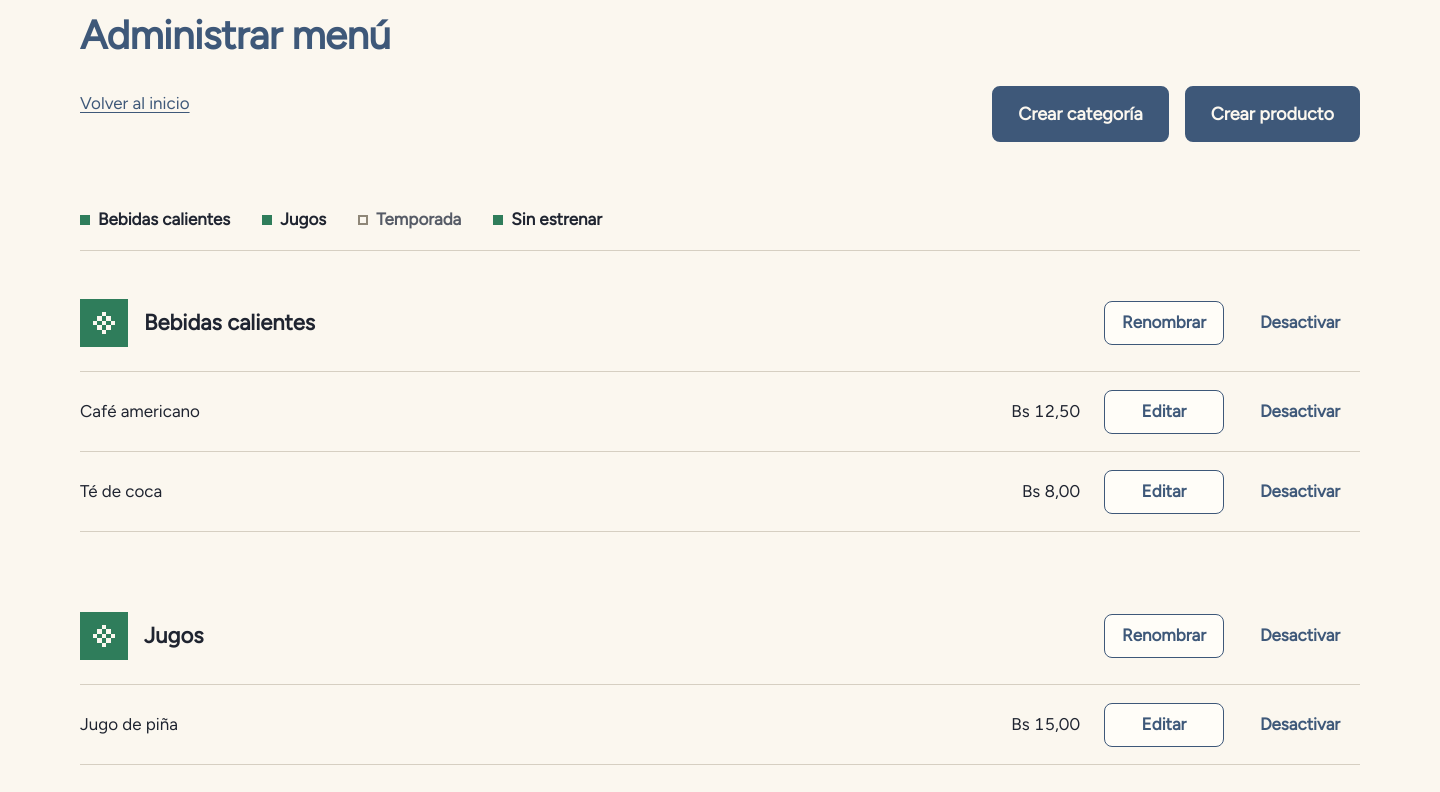
Test case: administración del menú (RF-1, RF-2) › desactiva y reactiva un producto con confirmación de guardado (RF-7, RF-9)
Step 1. Click the button with aria-label "Desactivar producto Café americano" → click(1300, 412), box [1240,390,1360,434]
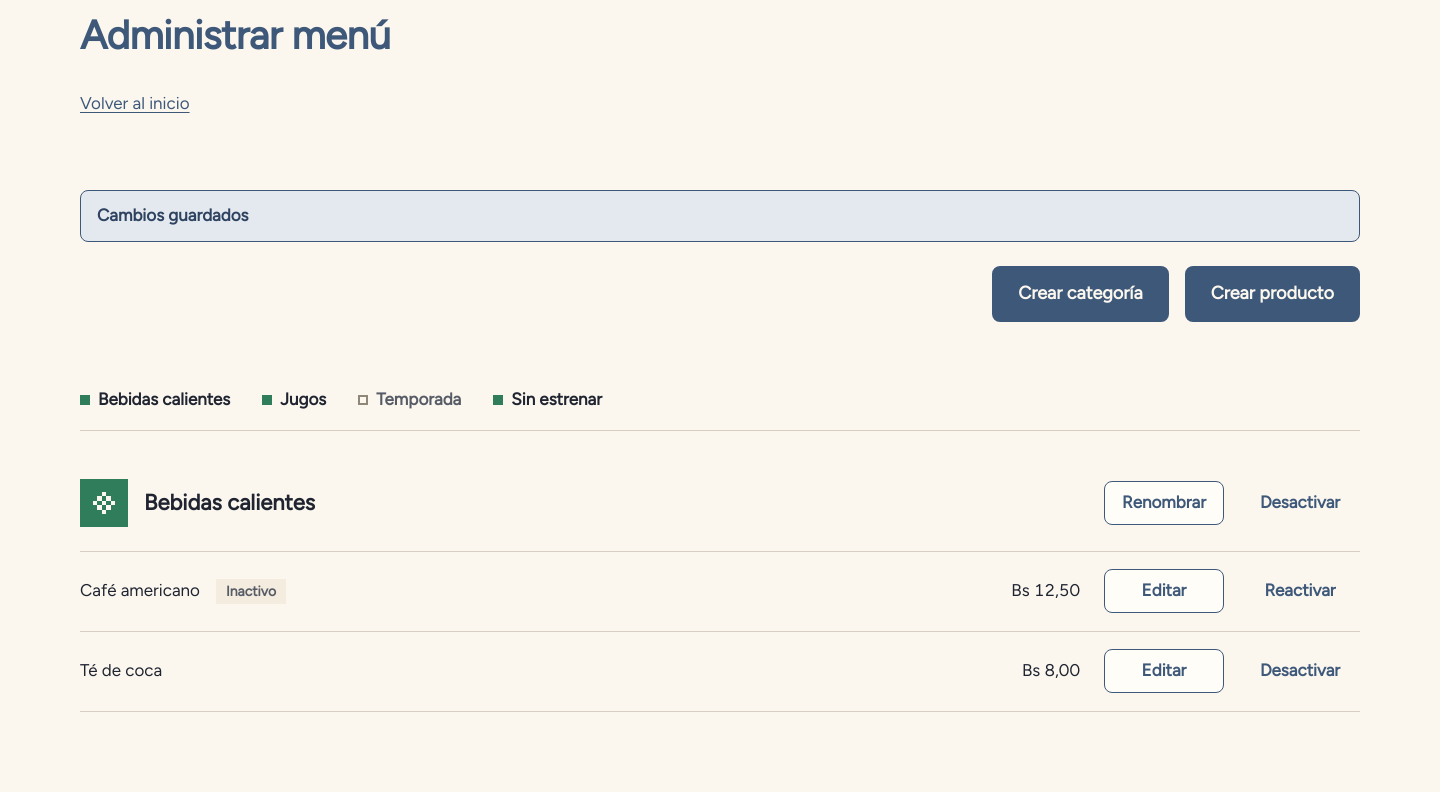
Expected: the button with aria-label "Reactivar producto Café americano" is shown
Expected: the text "Cambios guardados" is shown, [80,190,1360,242]
Step 2. Click the button with aria-label "Reactivar producto Café americano" → click(1300, 591), box [1240,569,1360,613]
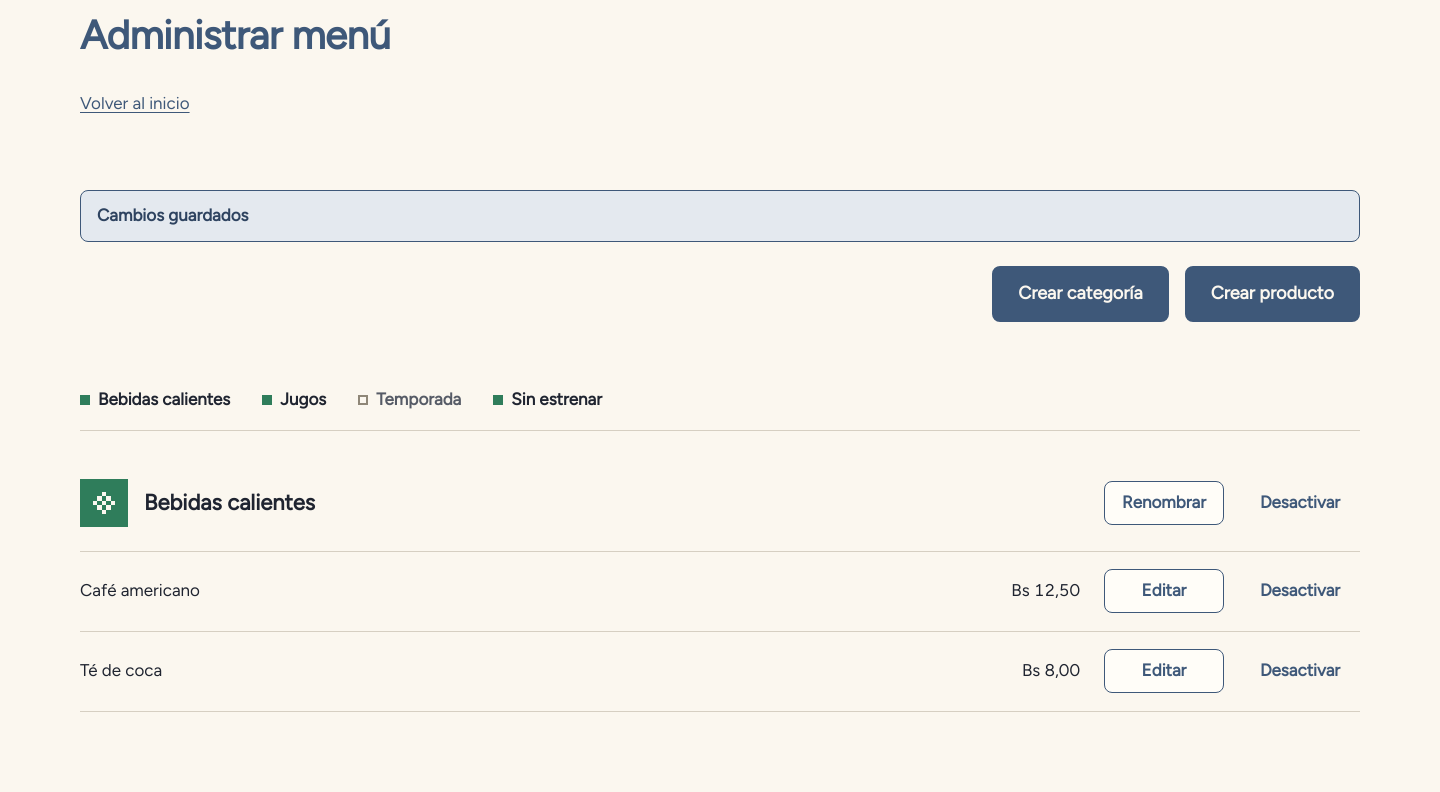
Expected: the button with aria-label "Desactivar producto Café americano" is shown, [1240,569,1360,613]
